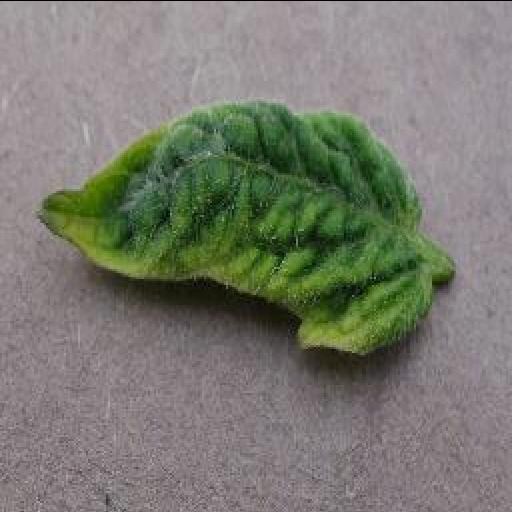disease_tomato: (30, 102, 438, 352)
